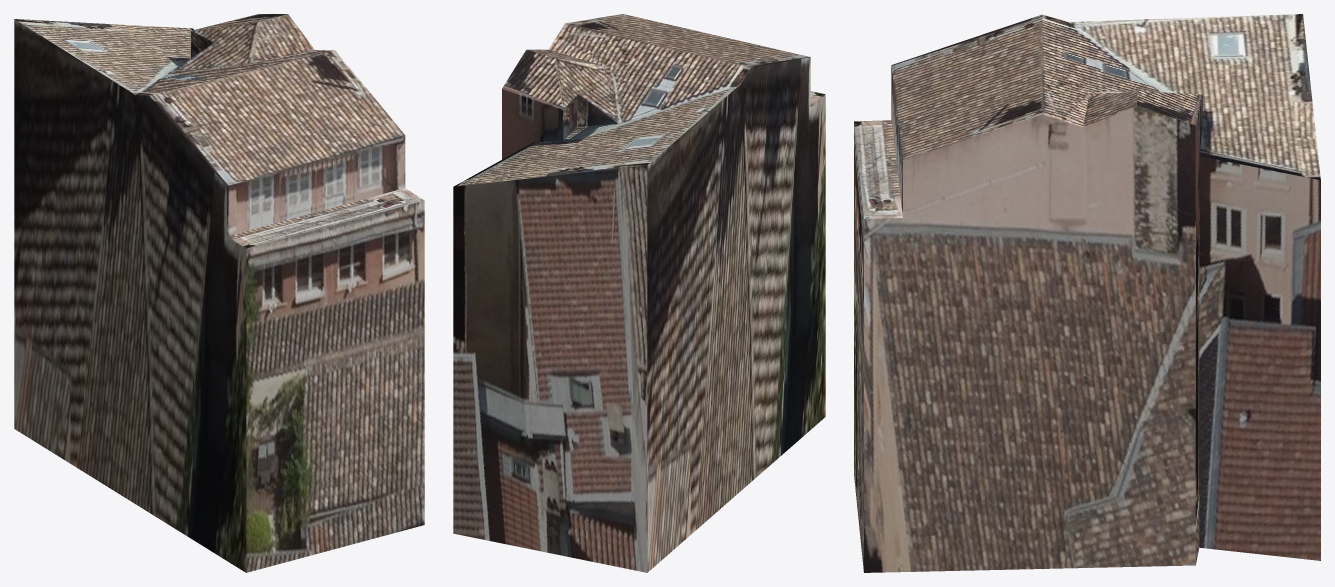
3 views of the same model, side by side, from view 1: azimuth 30°, elevation 25°; view 2: azimuth 150°, elevation 25°; view 3: azimuth 270°, elevation 25° (orthographic). The views are drawn at different scales.
Parts seen in each view (by area): view 1: Z_UP; view 2: Z_UP; view 3: Z_UP.
Boxes of the visible parts, x1=… form: Z_UP: x1=14, y1=14, x2=424, y2=572; Z_UP: x1=453, y1=14, x2=825, y2=572; Z_UP: x1=854, y1=14, x2=1320, y2=572.
Bounding box in the file's own units: 9.99 × 19.24 × 17.66.
2 materials, 1 textured.
